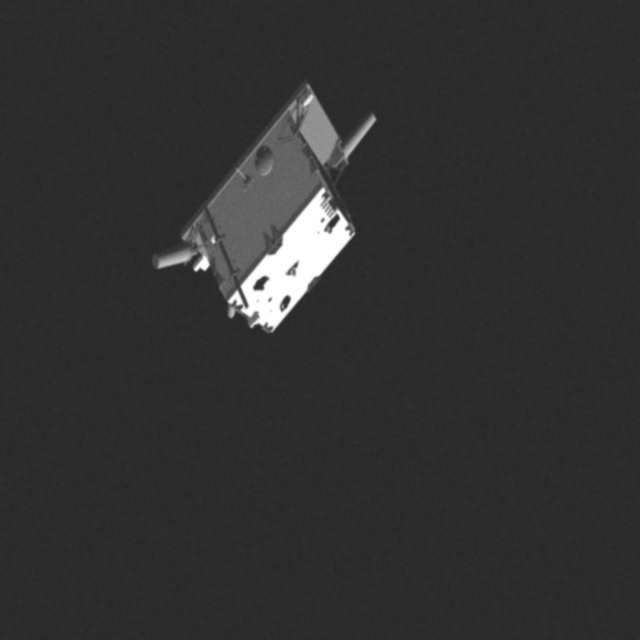medium_debris: (144, 78, 382, 346)
